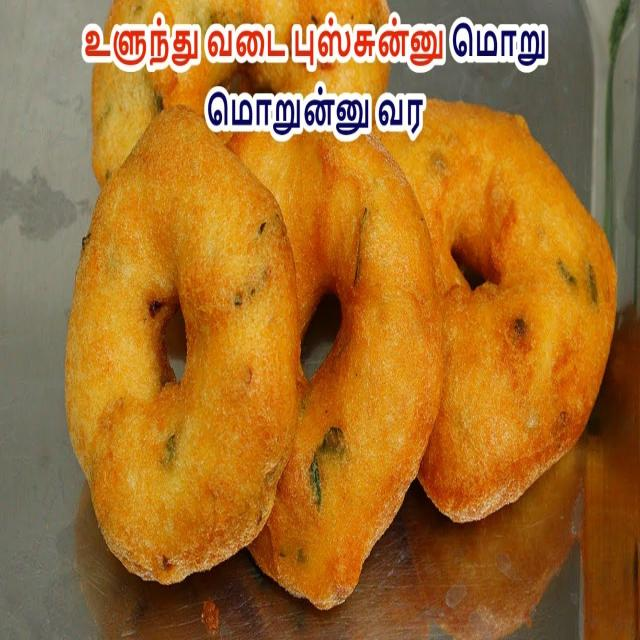medu vadai: (48, 99, 623, 614)
